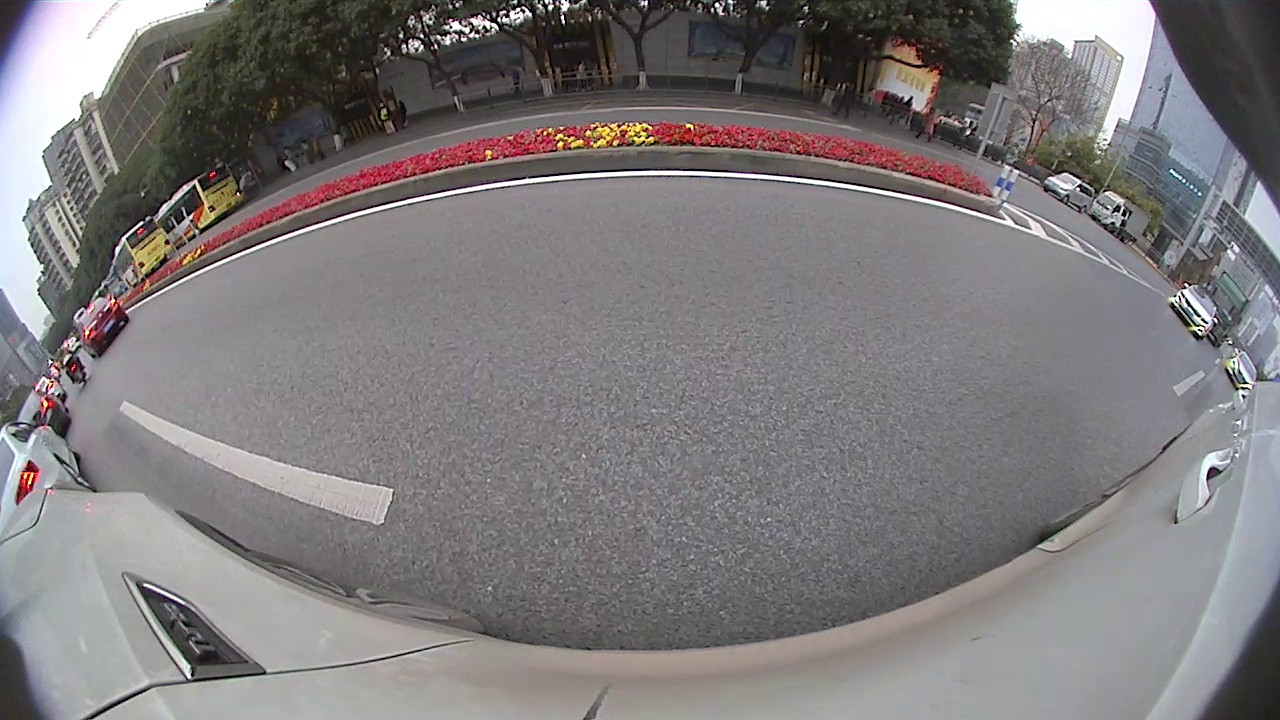bus: (152, 158, 239, 242), (108, 213, 173, 291)
car: (0, 418, 89, 522), (72, 296, 131, 361), (10, 384, 72, 436), (1171, 279, 1219, 340), (1042, 169, 1096, 213), (1225, 348, 1259, 391)
person: (927, 103, 936, 140)
rider: (58, 345, 88, 386)
truck: (1200, 269, 1248, 350), (1089, 188, 1151, 242)
